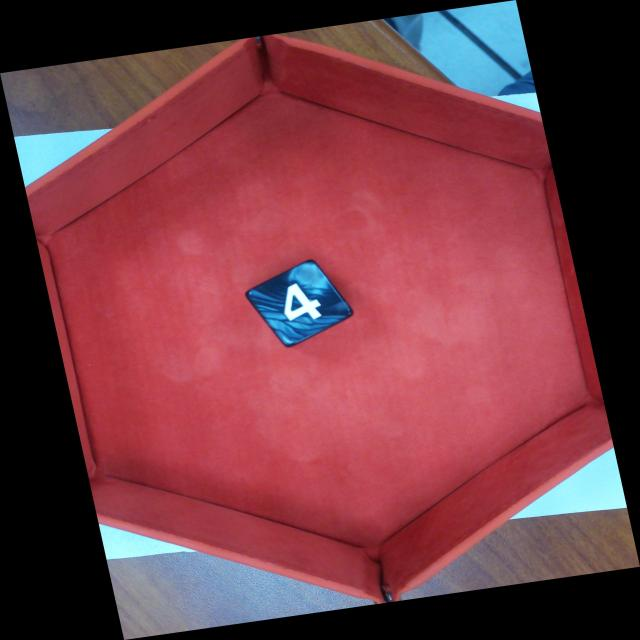dice: (250, 259, 359, 348)
